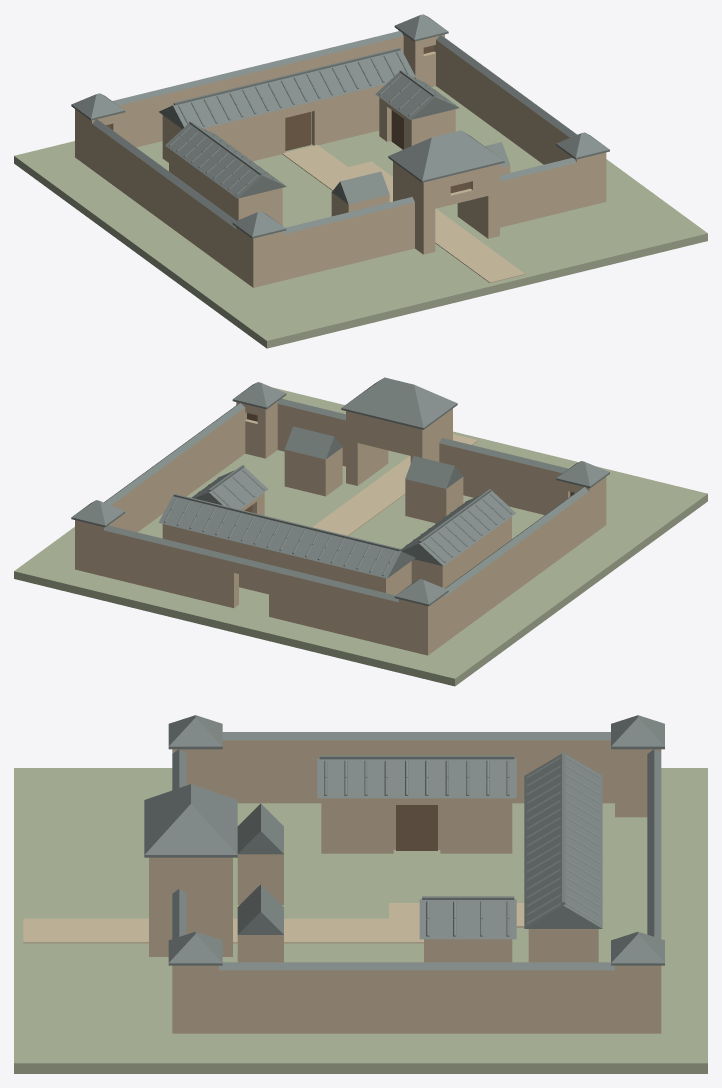
File: courtyard-C.glb
The picture shows the model from 3 angles, top to bottom: view 1: azimuth 30°, elevation 25°; view 2: azimuth 150°, elevation 25°; view 3: azimuth 270°, elevation 25°; orthographic projection. The views are drawn at different scales.
Parts seen in each view (by area): view 1: C_ground, B_boundary_side_-1, B_rear_room_roof, B_boundary_frontL, B_boundary_side_1, B_boundary_frontR, B_side_room_-1_roof, B_gate_roof, B_rear_room_jamb_1, C_arrival, B_boundary_rearL, B_rear_room_jamb_-1 (+27 smaller); view 2: C_ground, B_boundary_side_-1, B_rear_room_roof, B_boundary_rearR, B_boundary_rearL, B_boundary_side_1, B_boundary_frontL, B_rear_room_core, B_gate_roof, B_side_room_-1_roof, B_front_header_core, C_arrival (+23 smaller); view 3: C_ground, B_boundary_side_1, B_boundary_side_-1, B_rear_room_roof, B_side_room_-1_roof, C_arrival, B_gate_roof, B_side_room_-1_jamb_-1, B_side_room_-1_jamb_1, B_side_room_1_roof, B_boundary_side_cap_1, B_boundary_side_cap_-1 (+23 smaller).
Boxes of the visible parts, left/top/right/bottom form: C_ground: left=14, top=86, right=707, bottom=348; B_boundary_side_-1: left=92, top=124, right=236, bottom=274; B_rear_room_roof: left=159, top=49, right=415, bottom=129; B_boundary_frontL: left=282, top=202, right=414, bottom=280; B_boundary_side_1: left=436, top=40, right=569, bottom=164; B_boundary_frontR: left=500, top=163, right=576, bottom=227; B_side_room_-1_roof: left=165, top=123, right=286, bottom=198; B_gate_roof: left=388, top=130, right=504, bottom=180; B_rear_room_jamb_1: left=311, top=84, right=385, bottom=145; C_arrival: left=384, top=176, right=525, bottom=282; B_boundary_rearL: left=119, top=76, right=238, bottom=147; B_rear_room_jamb_-1: left=204, top=109, right=285, bottom=161; C_ground: left=14, top=387, right=707, bottom=686; B_boundary_side_-1: left=445, top=491, right=589, bottom=642; B_rear_room_roof: left=158, top=495, right=415, bottom=578; B_boundary_rearR: left=104, top=530, right=238, bottom=608; B_boundary_rearL: left=269, top=571, right=398, bottom=648; B_boundary_side_1: left=111, top=408, right=245, bottom=532; B_boundary_frontL: left=439, top=443, right=562, bottom=514; B_rear_room_core: left=162, top=524, right=408, bottom=595; B_gate_roof: left=342, top=377, right=457, bottom=427; B_side_room_-1_roof: left=401, top=490, right=515, bottom=566; B_front_header_core: left=346, top=410, right=450, bottom=457; C_arrival: left=312, top=434, right=478, bottom=535; C_ground: left=14, top=768, right=707, bottom=1073; B_boundary_side_1: left=219, top=970, right=614, bottom=1033; B_boundary_side_-1: left=219, top=740, right=614, bottom=803; B_rear_room_roof: left=524, top=754, right=602, bottom=928; B_side_room_-1_roof: left=317, top=758, right=516, bottom=798; C_arrival: left=23, top=918, right=388, bottom=943; B_gate_roof: left=144, top=784, right=237, bottom=854; B_side_room_-1_jamb_-1: left=321, top=798, right=393, bottom=853; B_side_room_-1_jamb_1: left=440, top=798, right=512, bottom=853; B_side_room_1_roof: left=419, top=899, right=516, bottom=939; B_boundary_side_cap_1: left=219, top=962, right=614, bottom=970; B_boundary_side_cap_-1: left=222, top=732, right=610, bottom=740.
Size of the model in its own units: 15 by 3.51 by 14.9.
